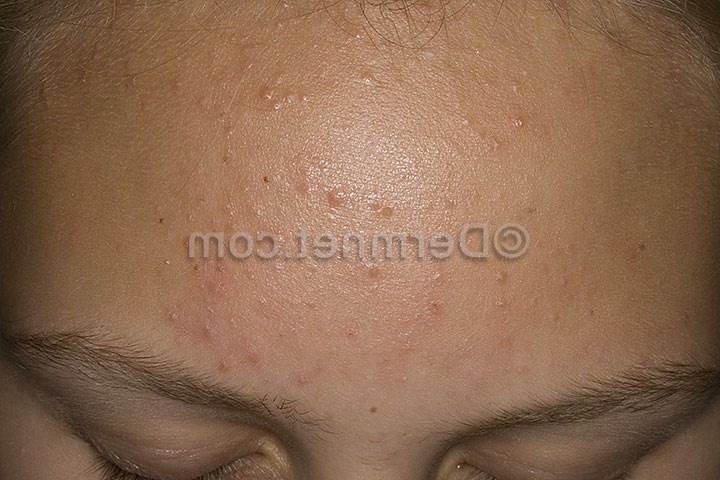Acne: (49, 38, 639, 367)
